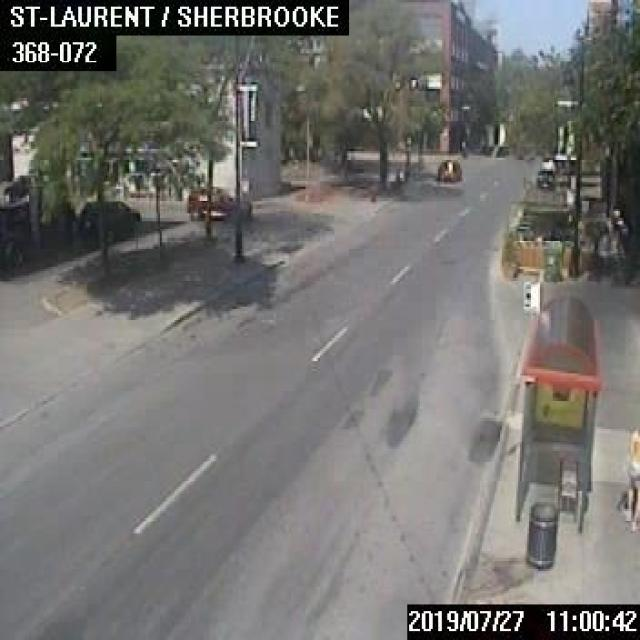pedestrian: (620, 427, 638, 529), (459, 137, 465, 157)
vehicle: (0, 206, 71, 266), (78, 200, 140, 236), (185, 185, 249, 214), (436, 158, 460, 178), (534, 167, 552, 191)
